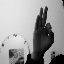f: (32, 5, 56, 49)
